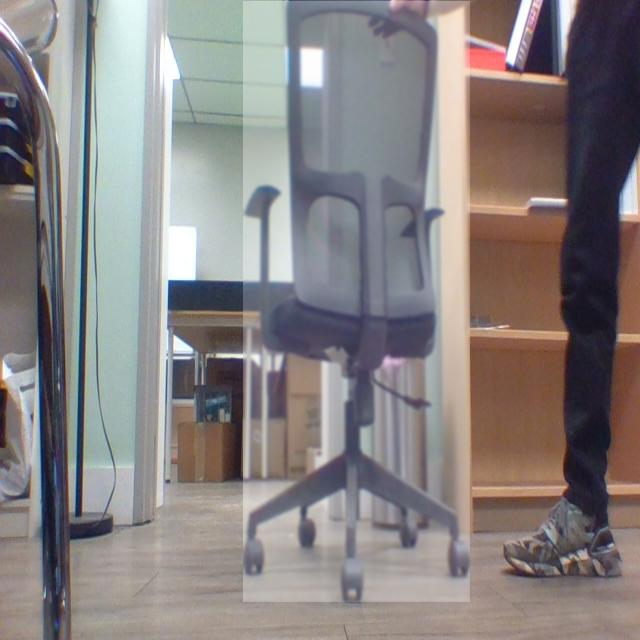black-chair: (243, 1, 471, 603)
